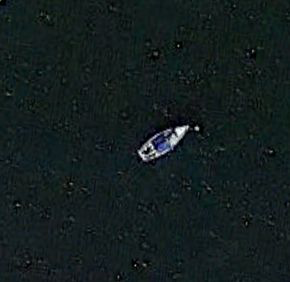boat: (137, 124, 192, 163)
